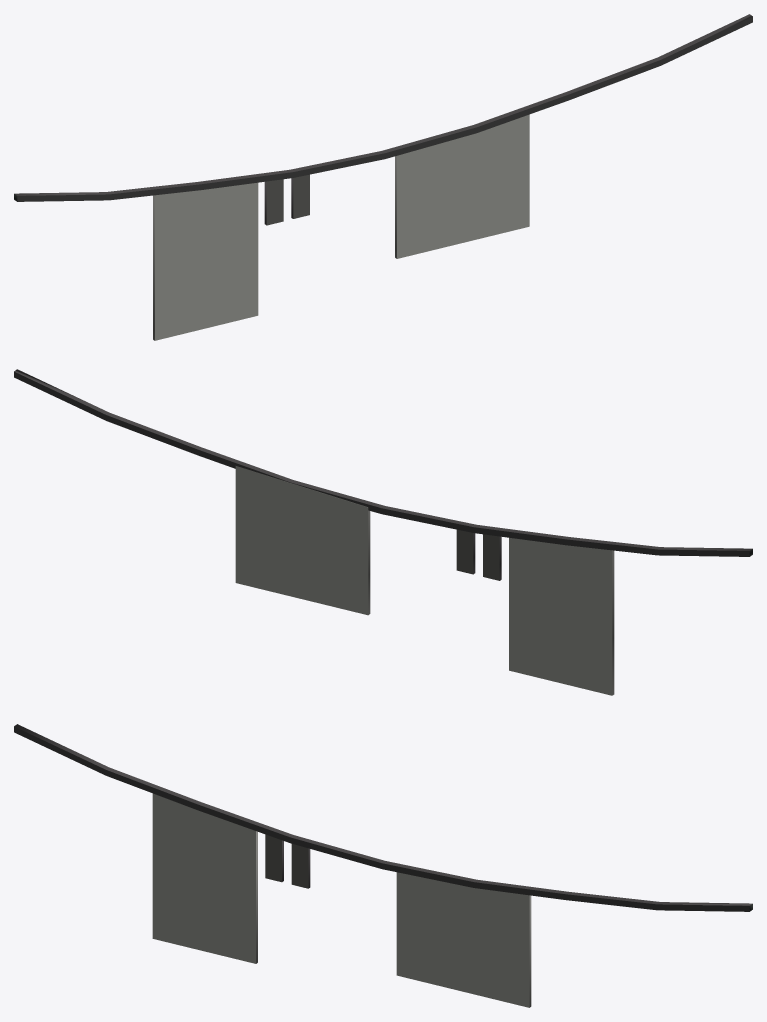
File: apoc_prop_12.glb
The picture shows the model from 3 angles, top to bottom: view 1: azimuth 30°, elevation 25°; view 2: azimuth 150°, elevation 25°; view 3: azimuth 330°, elevation 25°; orthographic projection.
Parts seen in each view (by area): view 1: prop_012; view 2: prop_012; view 3: prop_012.
Boxes of the visible parts, x1,y1,x2,y2 form: prop_012: (14,14,752,340); prop_012: (14,369,752,695); prop_012: (14,724,752,1007).
Bounding box in the file's own units: 1.04 × 0.2417 × 0.0085.
1 material, 1 textured.
